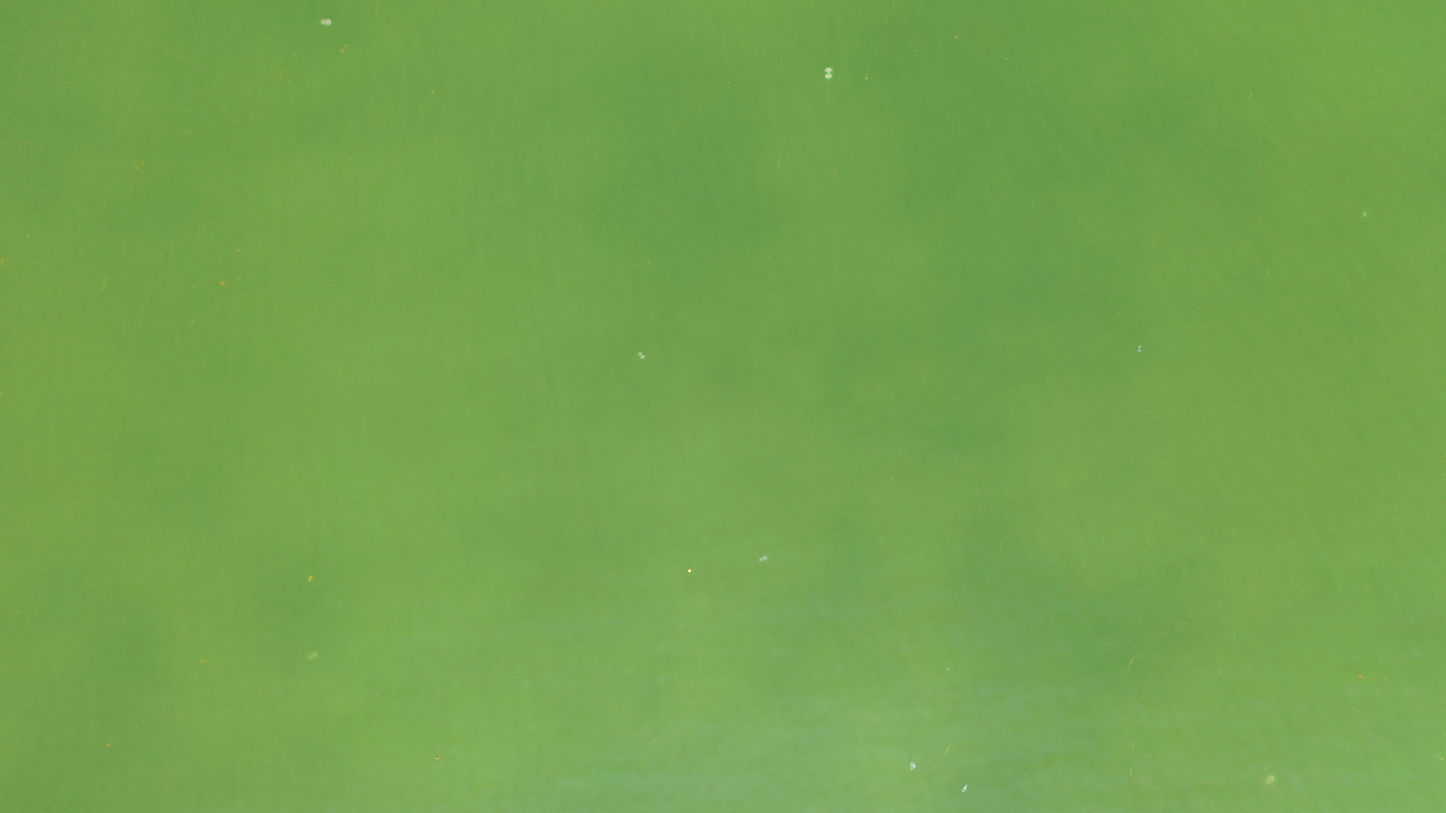meduse: (1264, 773, 1275, 786), (824, 67, 834, 79), (322, 18, 331, 27), (308, 653, 317, 661), (761, 555, 770, 562), (638, 351, 645, 359), (1136, 346, 1144, 352)
